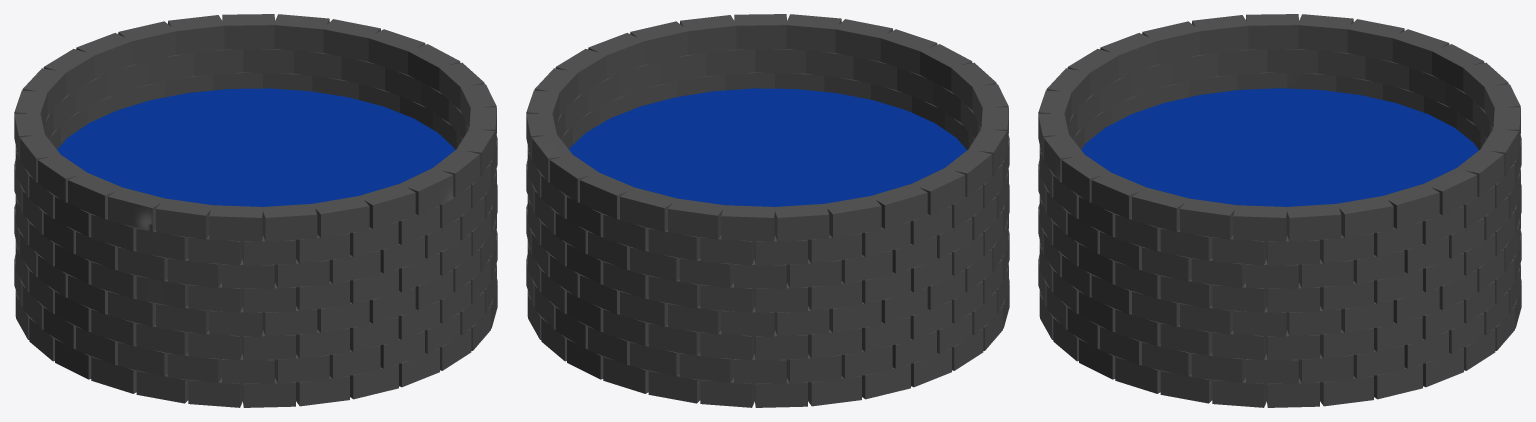
File: well.glb
The picture shows the model from 3 angles, left to right: view 1: azimuth 30°, elevation 25°; view 2: azimuth 150°, elevation 25°; view 3: azimuth 270°, elevation 25°; orthographic projection.
Parts seen in each view (by area): view 1: Cube.006, Cylinder.001; view 2: Cube.006, Cylinder.001; view 3: Cube.006, Cylinder.001.
Part boxes in pixels (x1,y1,x2,y2): Cube.006: [14, 14, 497, 407]; Cylinder.001: [57, 88, 455, 206]; Cube.006: [526, 14, 1009, 407]; Cylinder.001: [568, 88, 966, 206]; Cube.006: [1038, 14, 1521, 407]; Cylinder.001: [1081, 88, 1478, 206].
Size of the model in its own units: 3.69 by 1.6 by 3.69.
3 materials, 3 textured.
